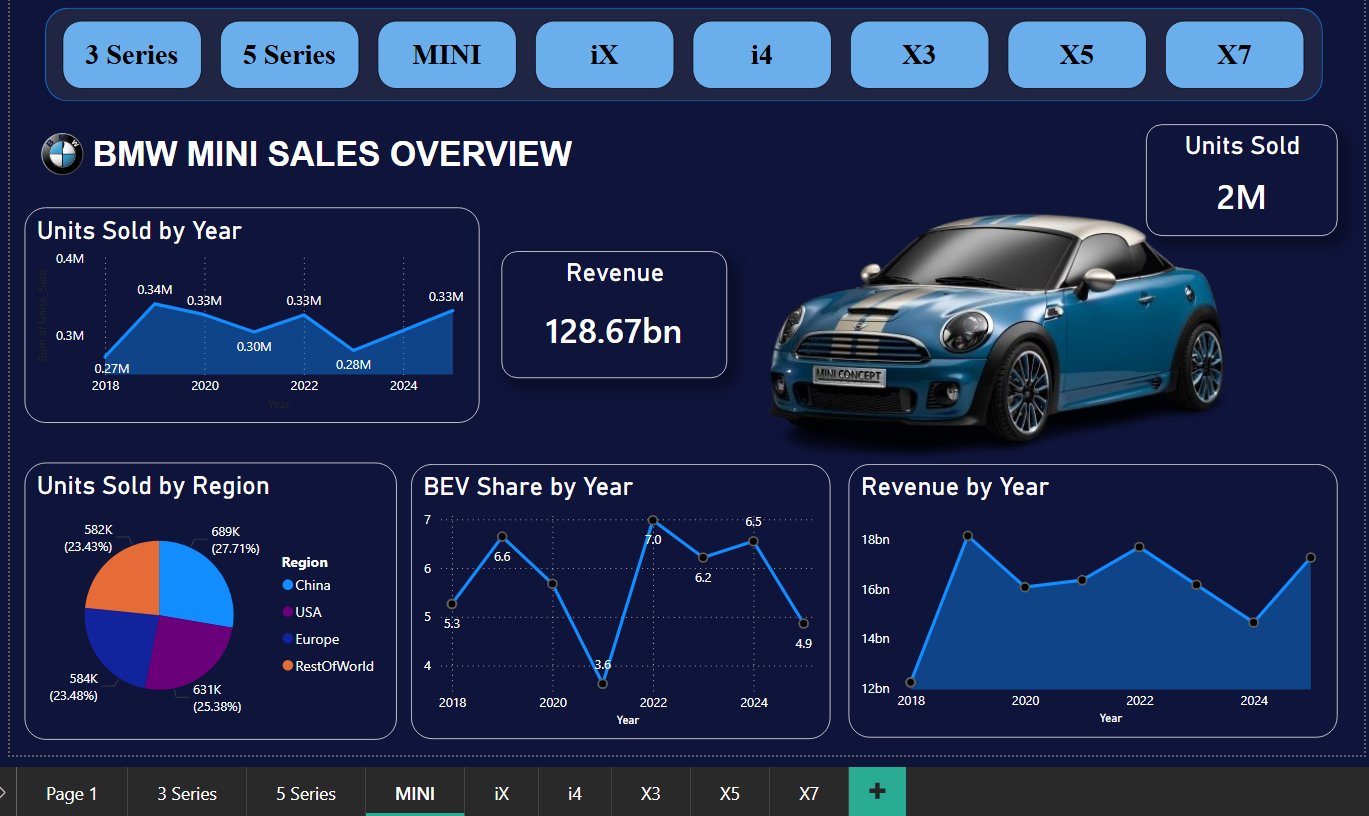

The dashboard page shown, as its layout file describes it:
{"tool":"powerbi","page":{"name":"MINI","canvas":[1280,720],"ordinal":3},"visuals":[{"type":"shape","box":[33.7,13.8,1207.6,88.8],"z":0},{"type":"actionButton","box":[49,26,131.6,64.3],"z":1000},{"type":"actionButton","box":[197.9,26,131.6,64.3],"z":2000},{"type":"actionButton","box":[346.7,26,131.6,64.3],"z":3000},{"type":"actionButton","box":[495.6,26,131.6,64.3],"z":4000},{"type":"actionButton","box":[644.5,26,131.6,64.3],"z":5000},{"type":"actionButton","box":[793.4,26,131.6,64.3],"z":6000},{"type":"actionButton","box":[942.3,26,131.6,64.3],"z":7000},{"type":"actionButton","box":[1091.2,26,131.6,64.3],"z":8000},{"type":"lineChart","title":"Units Sold by Year","fields":{"Y":["Sum(Sheet1.Units_Sold)"],"Category":["Sheet1.Year"]},"box":[13.8,202,430.1,203.6],"z":9000},{"type":"pieChart","title":"Units Sold by Region","fields":{"Category":["Sheet1.Region"],"Y":["Sum(Sheet1.Units_Sold)"]},"box":[13.8,443.8,352,261.7],"z":10000},{"type":"lineChart","title":"BEV Share by Year","fields":{"Y":["Avg(Sheet1.BEV_Share_%)"],"Category":["Sheet1.Year"]},"box":[379.6,445.4,396.4,260.2],"z":11000},{"type":"cardVisual","title":"Units Sold","fields":{"Data":["Sum(Sheet1.Units_Sold)"]},"box":[1073.9,124.6,181.2,105.8],"z":12000},{"type":"image","box":[594.8,132.3,678.8,386.1],"z":13000},{"type":"areaChart","title":"Revenue by Year","fields":{"Category":["Sheet1.Year"],"Y":["Sum(Sheet1.Revenue)"]},"box":[792.8,445.4,462.2,258.7],"z":14000},{"type":"image","box":[24.5,131.6,49,39.8],"z":15000},{"type":"cardVisual","title":"Revenue","fields":{"Data":["Sum(Sheet1.Revenue)"]},"box":[464,244.4,213.3,119.9],"z":16000},{"type":"textbox","box":[73.2,129.2,554.3,48.3],"z":17000}]}

Visuals, with their boxes on the page's 1280x720 design canvas (x1, y1, x2, y2). These are canvas units, not pixel positions in the 1369x816 screenshot, which may show the page scaled, cropped or inside an application window:
shape: detection(34, 14, 1241, 103)
actionButton: detection(49, 26, 181, 90)
actionButton: detection(198, 26, 330, 90)
actionButton: detection(347, 26, 478, 90)
actionButton: detection(496, 26, 627, 90)
actionButton: detection(644, 26, 776, 90)
actionButton: detection(793, 26, 925, 90)
actionButton: detection(942, 26, 1074, 90)
actionButton: detection(1091, 26, 1223, 90)
"Units Sold by Year" lineChart: detection(14, 202, 444, 406)
"Units Sold by Region" pieChart: detection(14, 444, 366, 706)
"BEV Share by Year" lineChart: detection(380, 445, 776, 706)
"Units Sold" cardVisual: detection(1074, 125, 1255, 230)
image: detection(595, 132, 1274, 518)
"Revenue by Year" areaChart: detection(793, 445, 1255, 704)
image: detection(24, 132, 74, 171)
"Revenue" cardVisual: detection(464, 244, 677, 364)
textbox: detection(73, 129, 628, 178)
